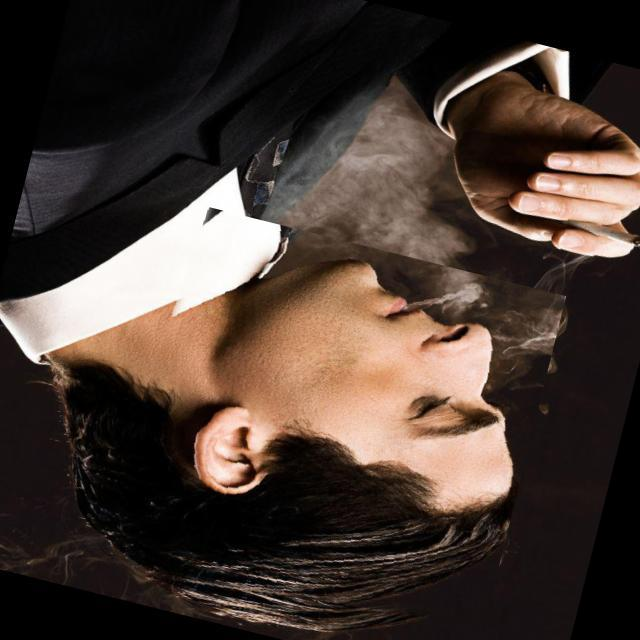cigarette: (542, 195, 640, 280)
